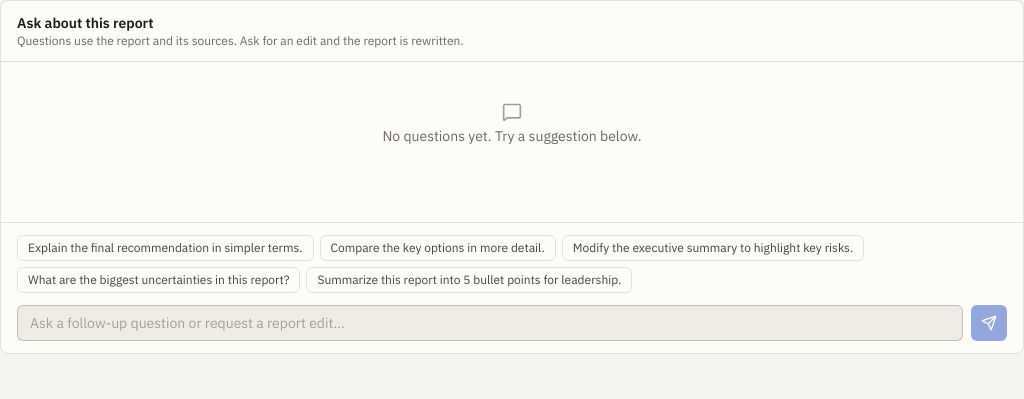
ReportChat › shows an error when the reply fails
Type "Hi" into the field with placeholder "Ask a follow-up question or request a report edit…". click: [490, 323]
box: [17,305,963,341]
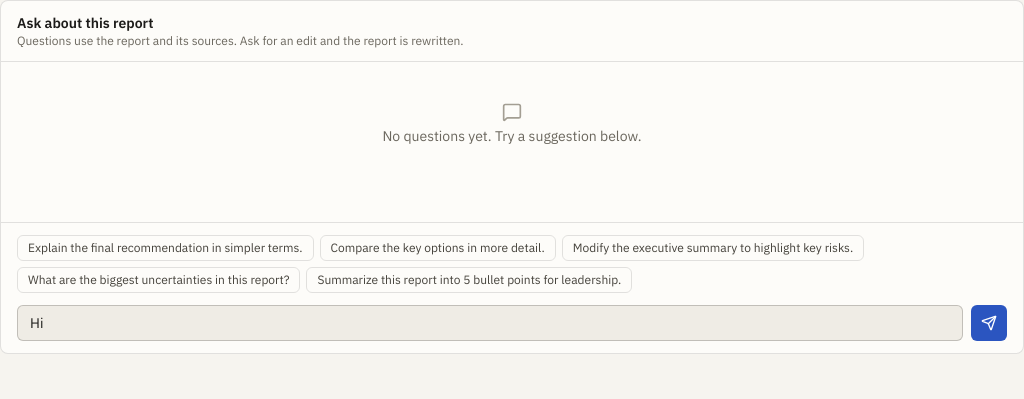
Submit the form with placeholder "follow-up", box [17,305,1007,341]
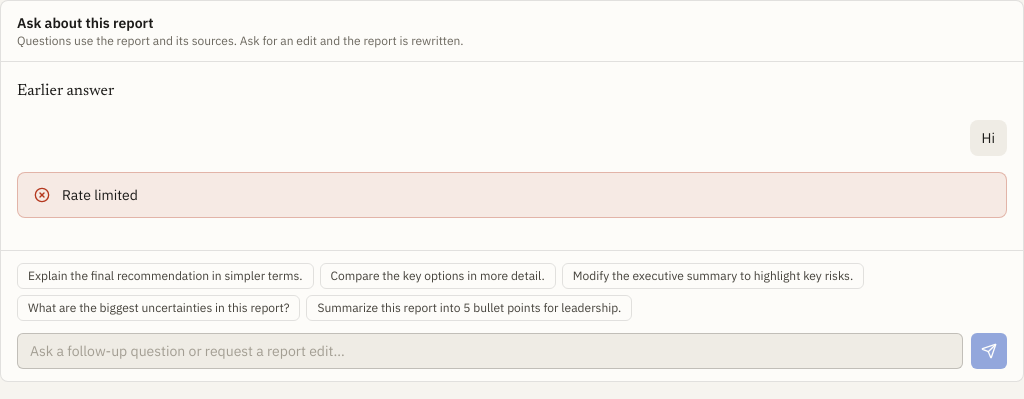
expect the text "Rate limited" is shown: met, box [62,186,138,204]
